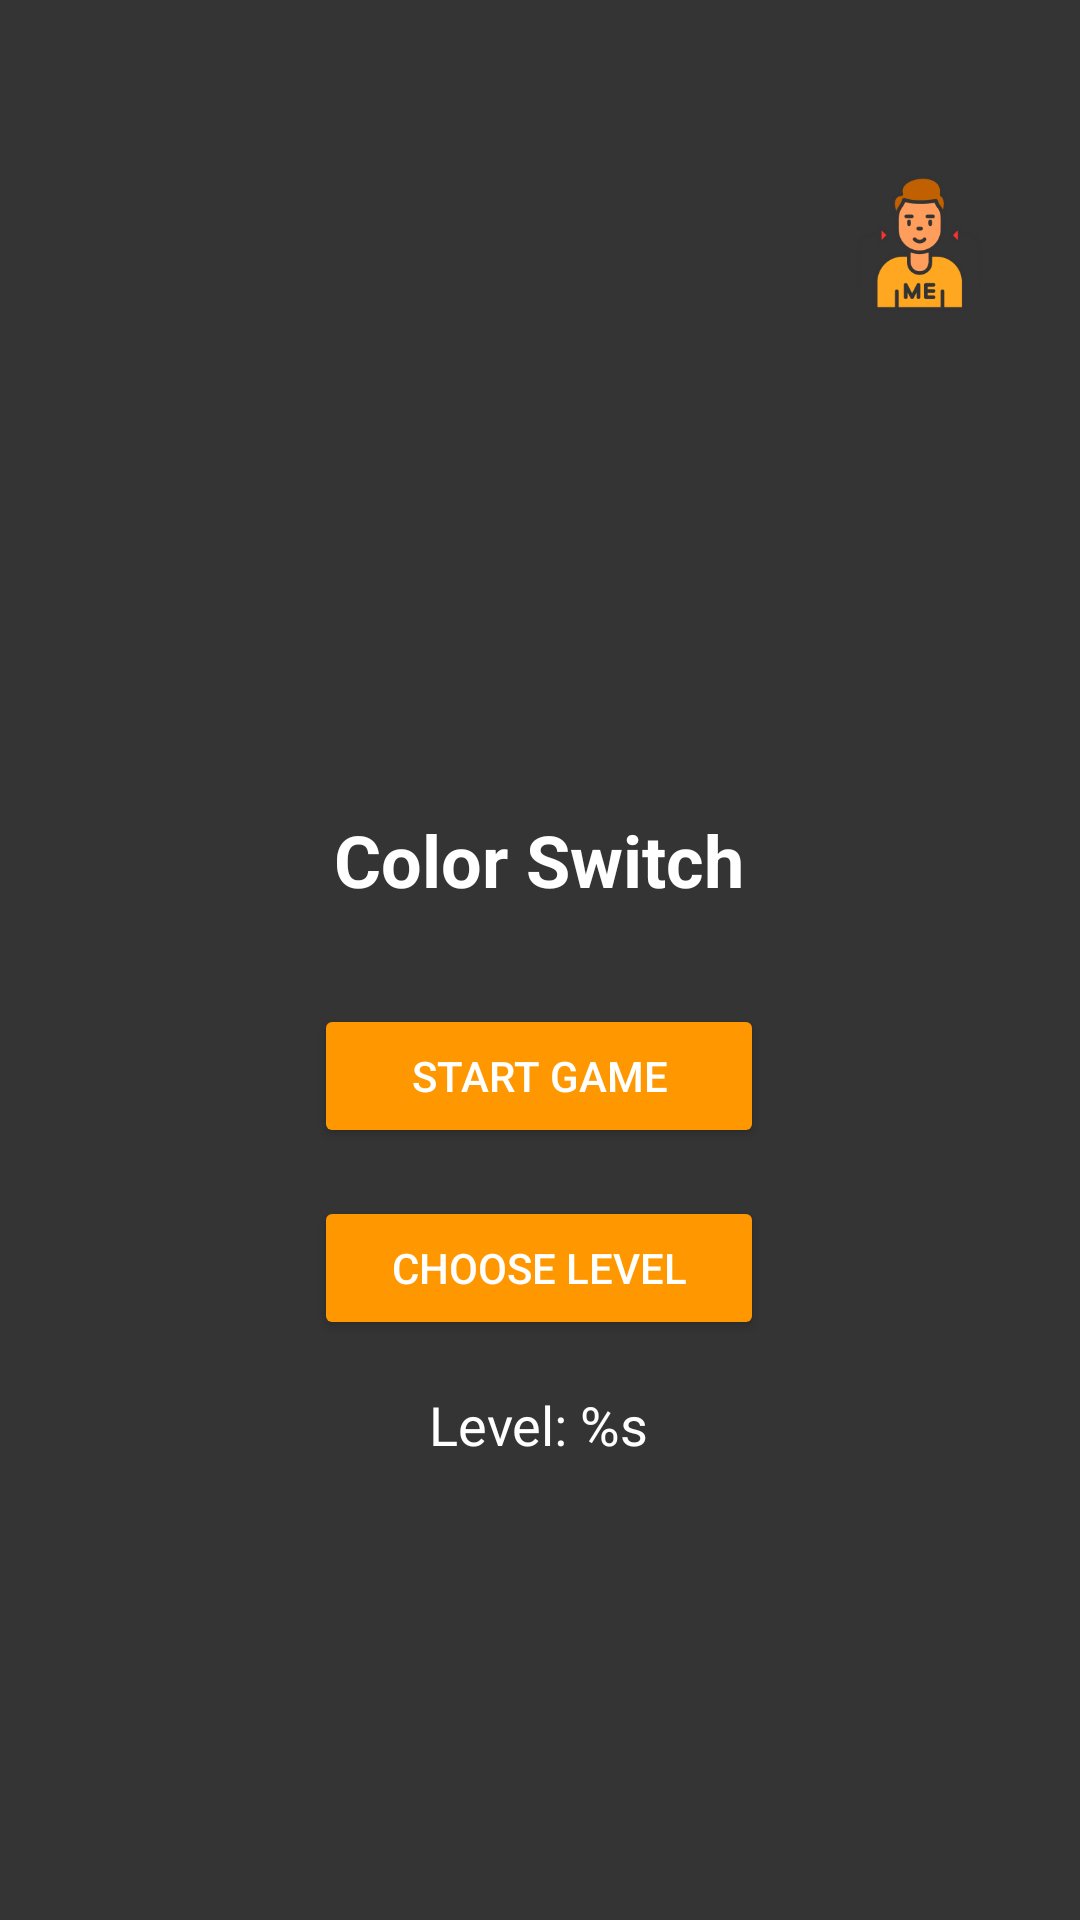

Screen size 1080×1920. Icon name, then its center in pixels as (x=x, y=y):
About Me: (x=919, y=243)
